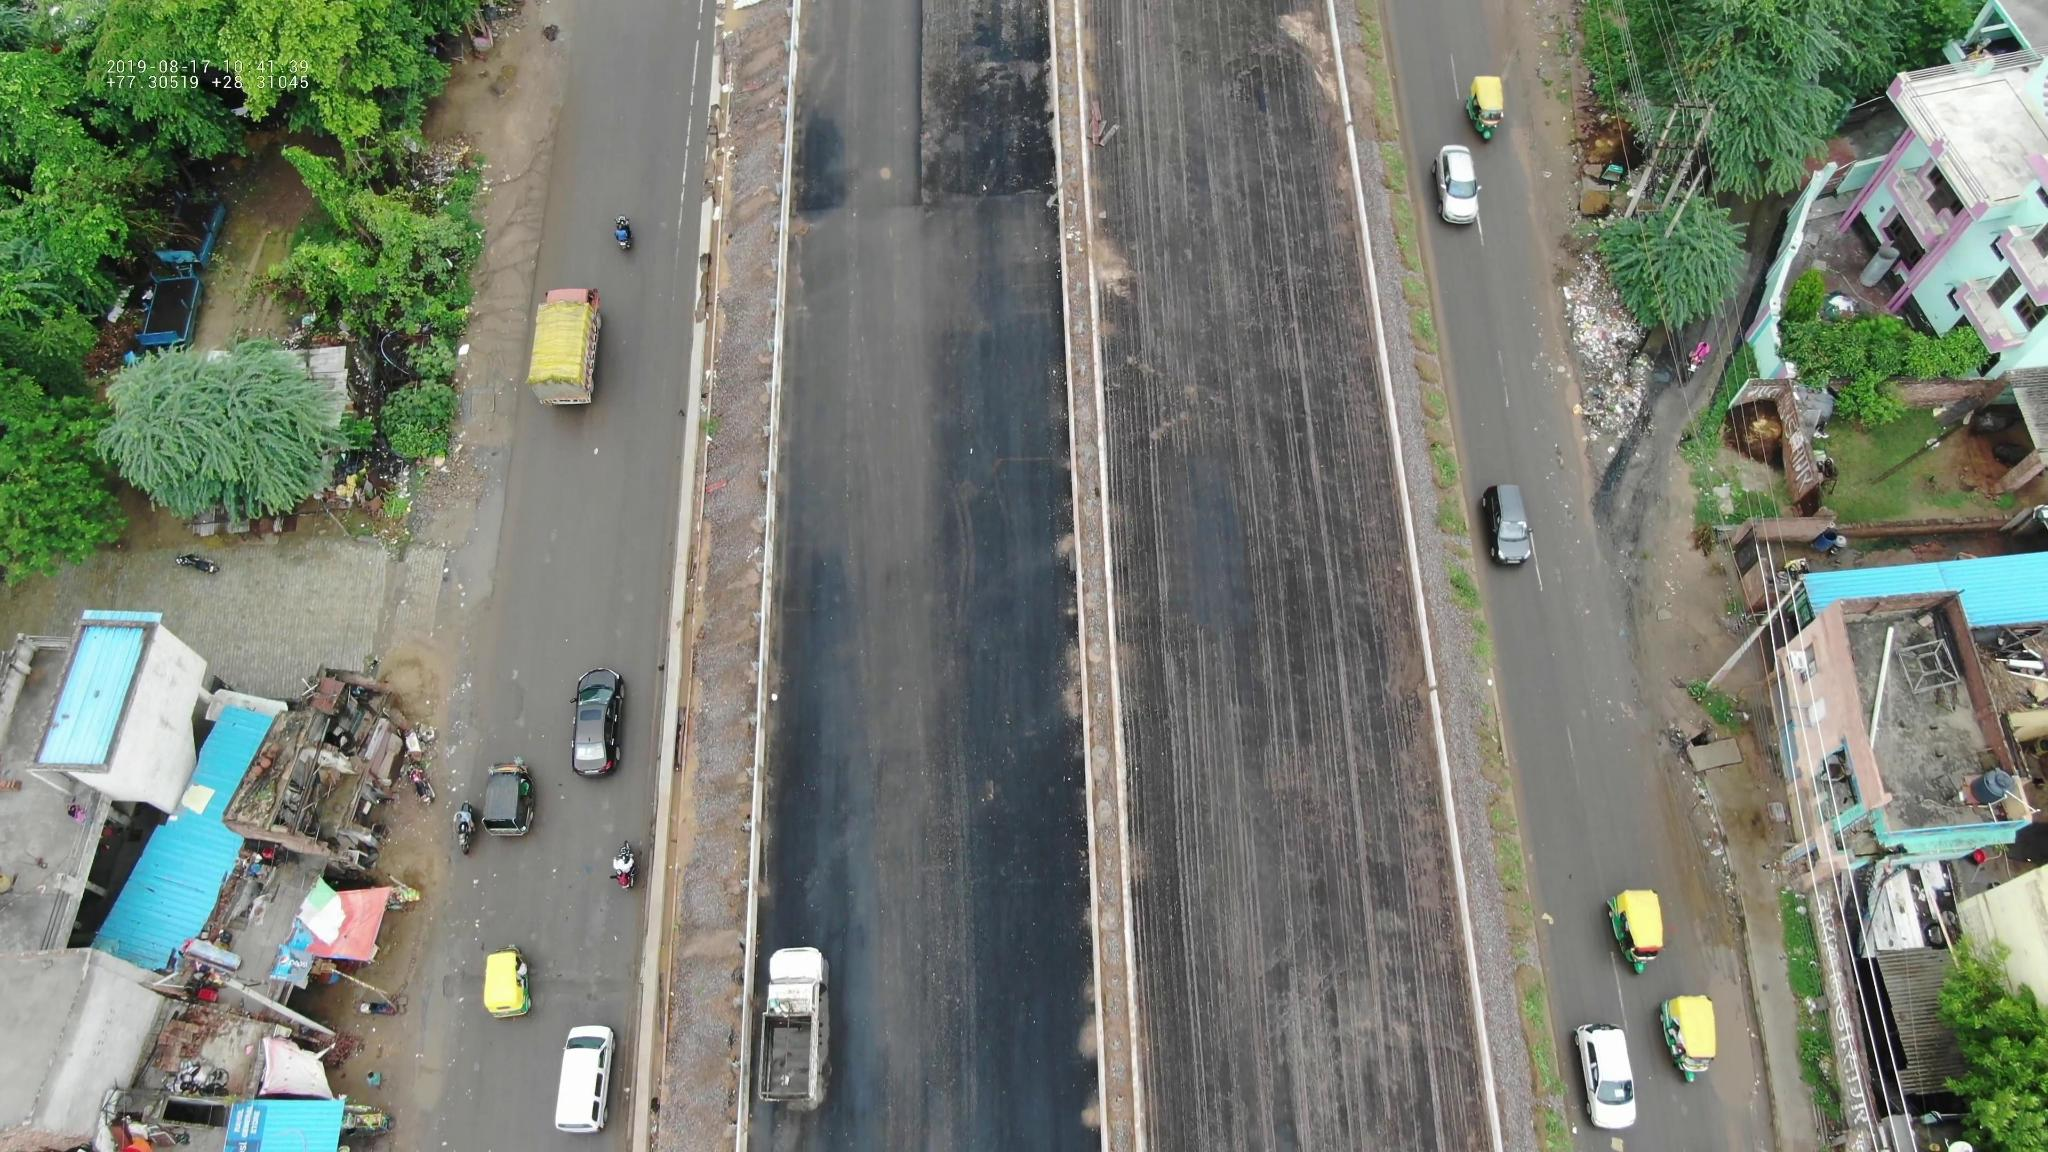Road_side_garbage: (1549, 255, 1651, 432)
